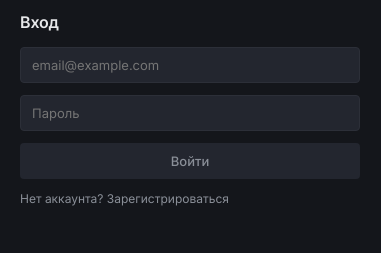
Test: LoginForm › очищает ошибку при переключении режима
The image size is (381, 253).
Type "me@example.com" into the field labelled "email".
click(190, 65); type("me@example.com")  # box [20,47,360,83]
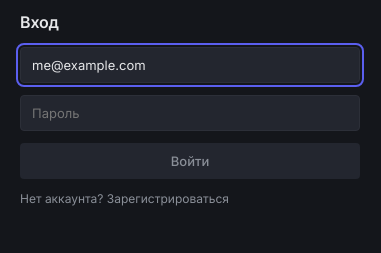
Type "wrong-password" into the password field labelled "Пароль".
click(190, 113); type("wrong-password")  # box [20,95,360,131]
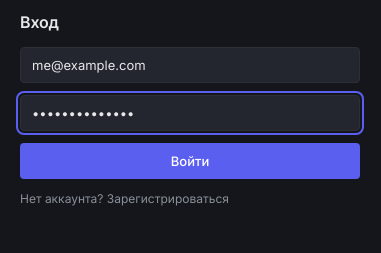
Click the button "Войти".
click(190, 161)  # box [20,143,360,179]
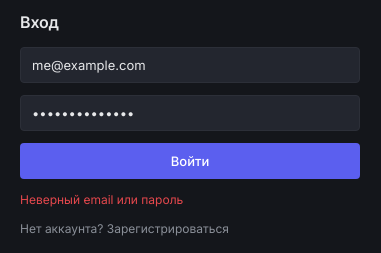
Check: the message "Неверный email или пароль" is shown, box [20,192,183,207]
Click the button "Нет аккаунта? Зарегистрироваться".
click(190, 228)  # box [20,221,360,236]
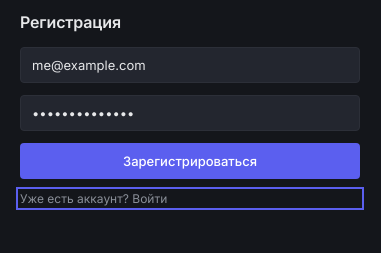
Check: the message "Неверный email или пароль" is gone
